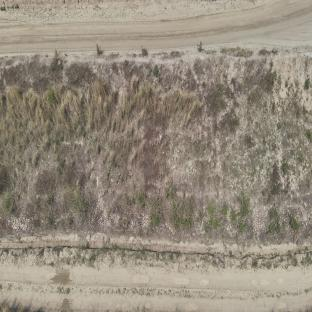rock_toe: (2, 200, 312, 244)
toe_drain: (1, 237, 312, 263)
